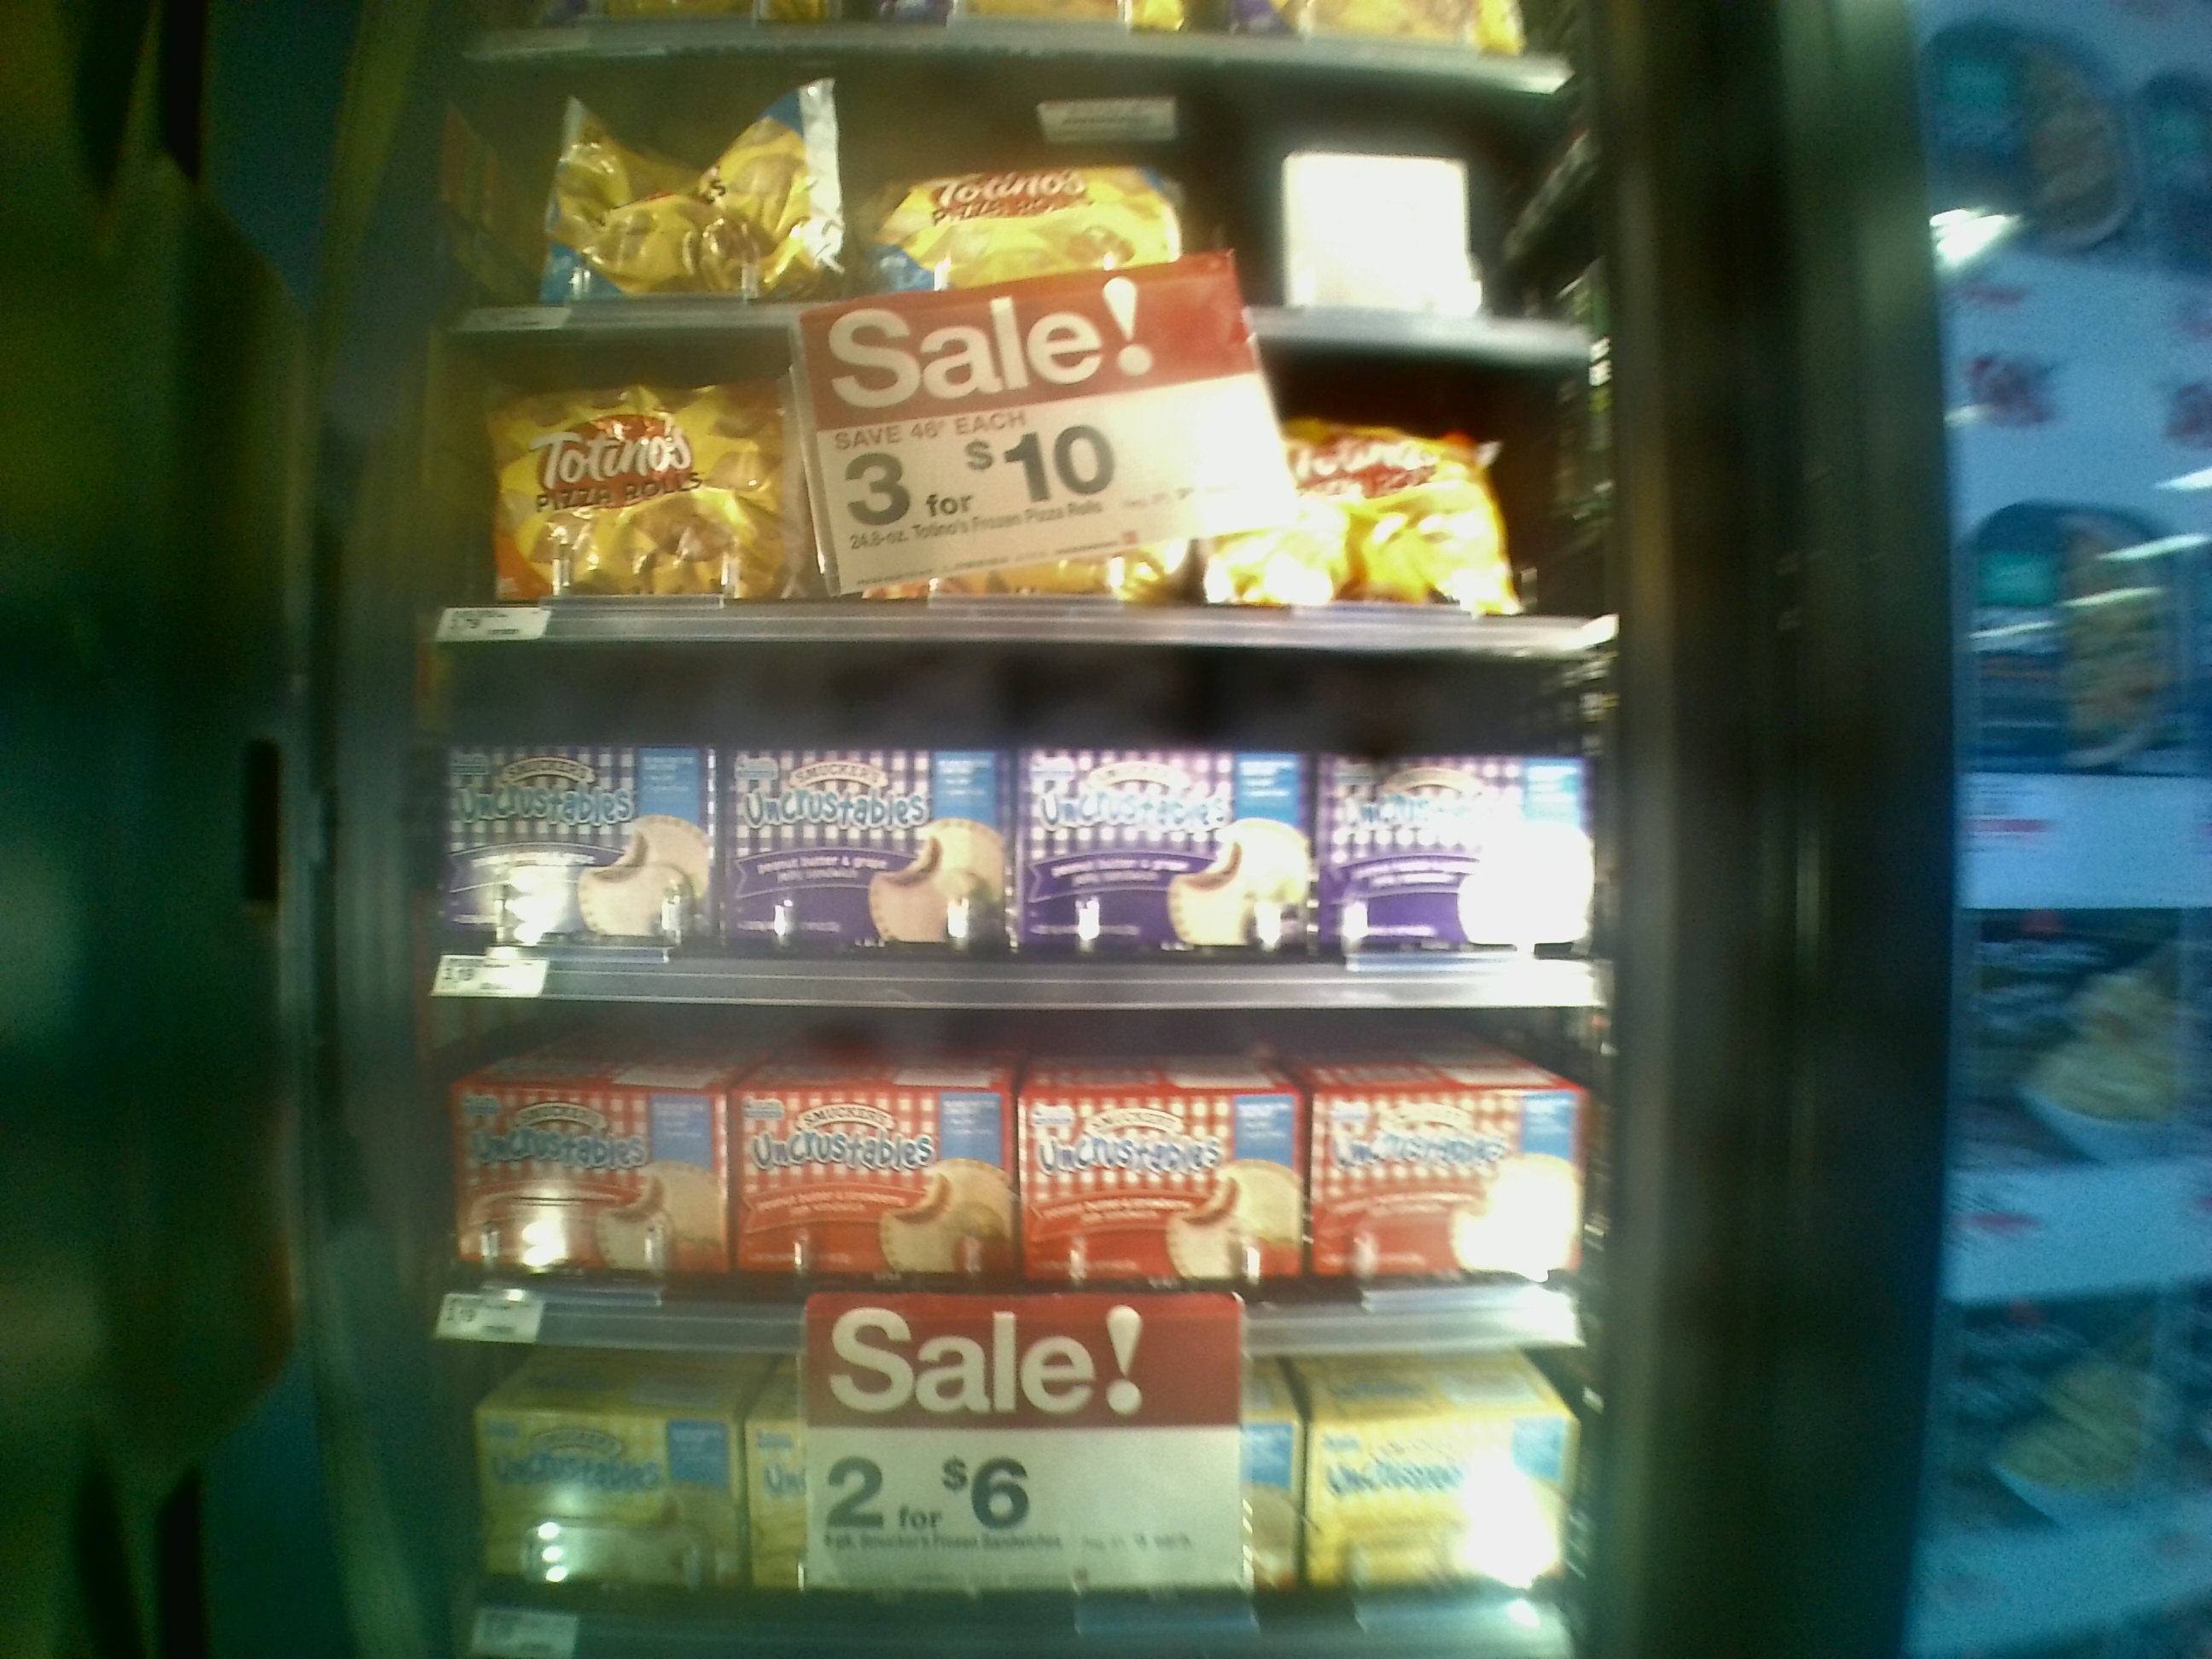shelf: (413, 650, 1620, 1011), (413, 1025, 1615, 1352), (413, 331, 1616, 657), (432, 47, 1597, 368)
